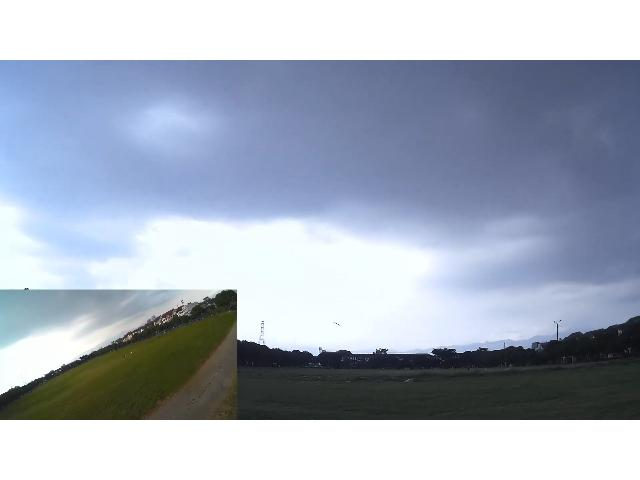Anti-Drone: (329, 315, 345, 329)
